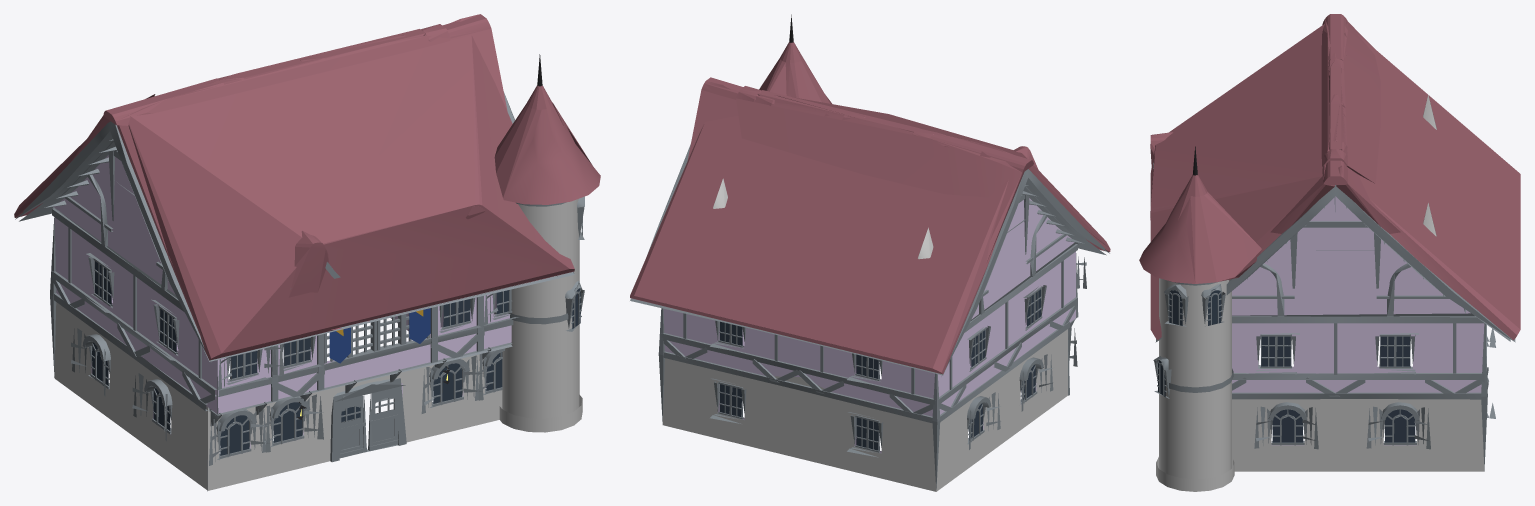
Rendered from generated.guild_hall.gltf.
The picture shows the model from 3 angles, left to right: view 1: azimuth 30°, elevation 25°; view 2: azimuth 150°, elevation 25°; view 3: azimuth 270°, elevation 25°; orthographic projection. The views are drawn at different scales.
Parts seen in each view (by area): view 1: lod; view 2: lod; view 3: lod.
Boxes of the visible parts, x1=… form: lod: x1=14, y1=14, x2=600, y2=491; lod: x1=630, y1=14, x2=1110, y2=491; lod: x1=1139, y1=14, x2=1520, y2=491.
Bounding box in the file's own units: 15.31 × 13 × 13.59.
